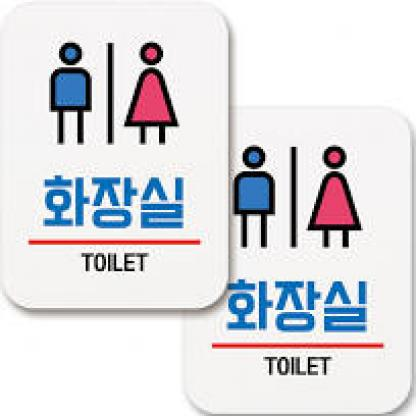toilet: (46, 35, 184, 153), (230, 141, 364, 253)
